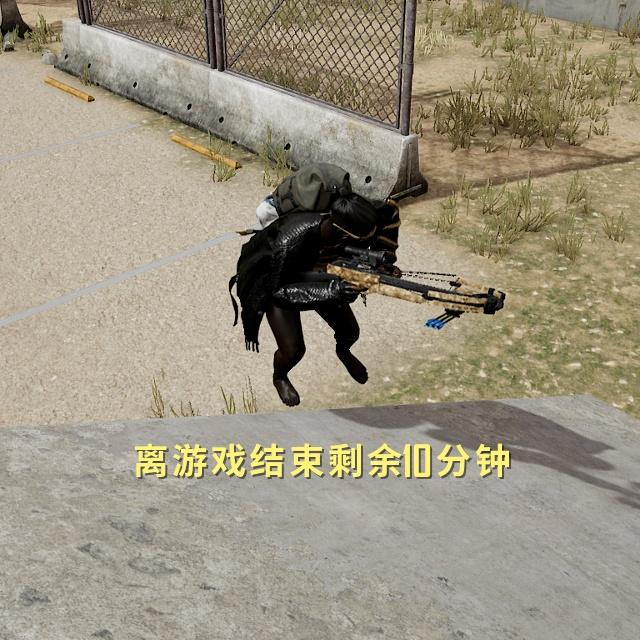head: (315, 179, 390, 260)
people: (224, 148, 418, 424)
